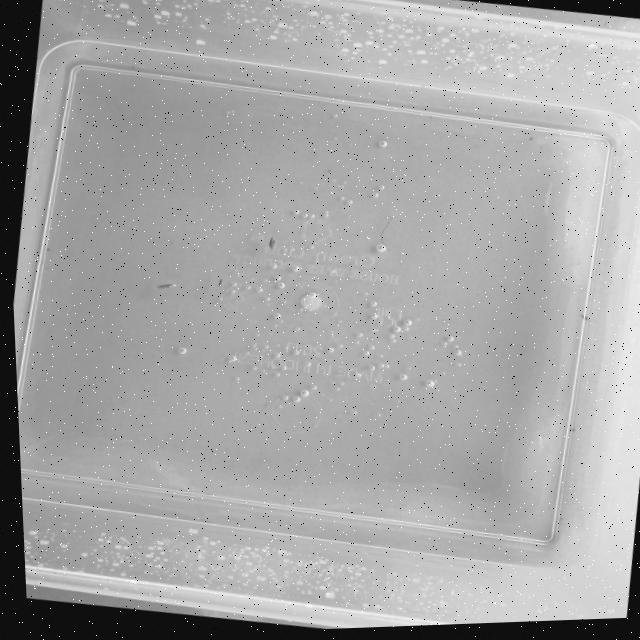Wereng: (150, 277, 180, 294), (260, 232, 279, 253), (206, 273, 228, 291)
